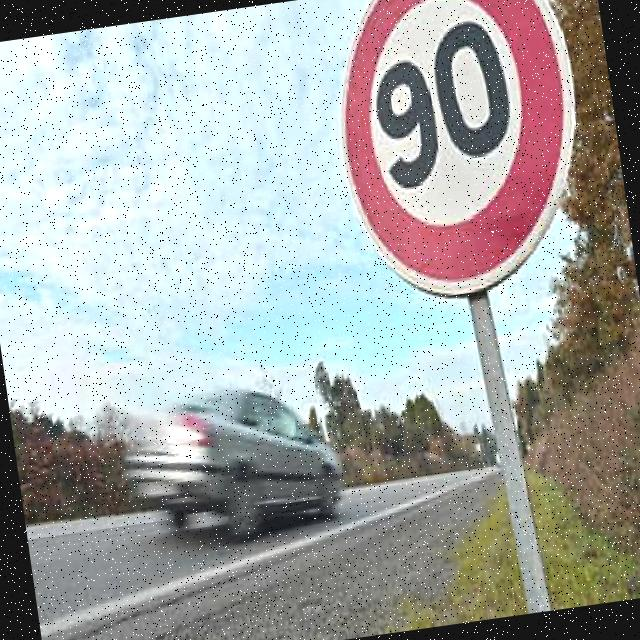Ograniczenie predkosci do 90: (329, 0, 596, 301)
